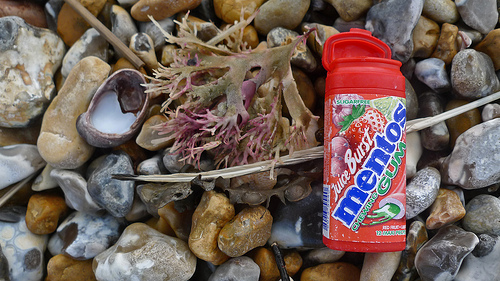litter: (320, 29, 408, 255)
